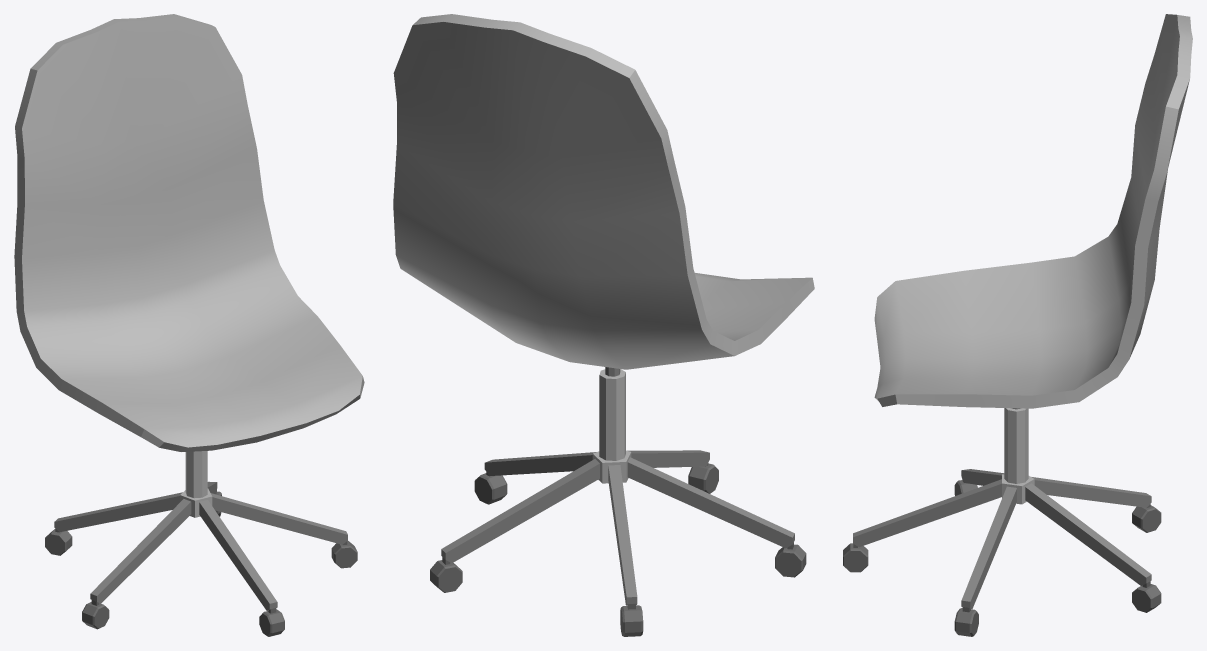
File: SM_Props_Furniture_03.fbx
The picture shows the model from 3 angles, left to right: view 1: azimuth 30°, elevation 25°; view 2: azimuth 150°, elevation 25°; view 3: azimuth 270°, elevation 25°; orthographic projection. The views are drawn at different scales.
Visible parts, largest first — view 1: SM_Props_Furniture_03; view 2: SM_Props_Furniture_03; view 3: SM_Props_Furniture_03.
Boxes of the visible parts, box(x1,y1,x2,y2) form: SM_Props_Furniture_03: box(14, 14, 364, 636); SM_Props_Furniture_03: box(393, 14, 814, 636); SM_Props_Furniture_03: box(843, 14, 1192, 636).
Size of the model in its own units: 64.14 by 113 by 67.1.
